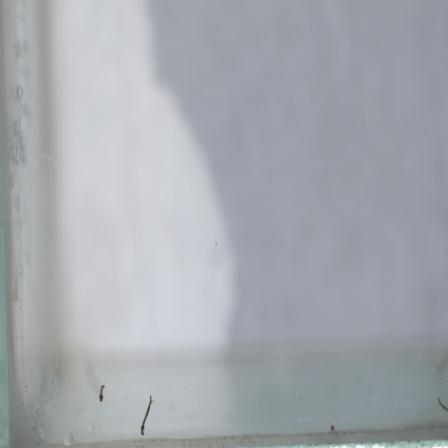Jentik-Nyamuk: (139, 393, 155, 435), (96, 383, 107, 403)
